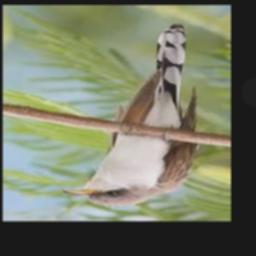Cuckoo: (62, 25, 198, 207)
